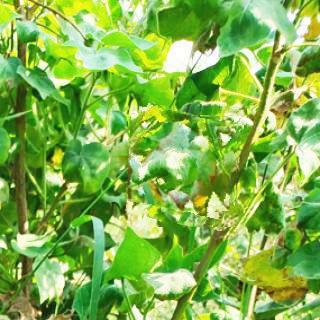blight: (130, 106, 239, 227)
curl: (128, 109, 237, 212)
